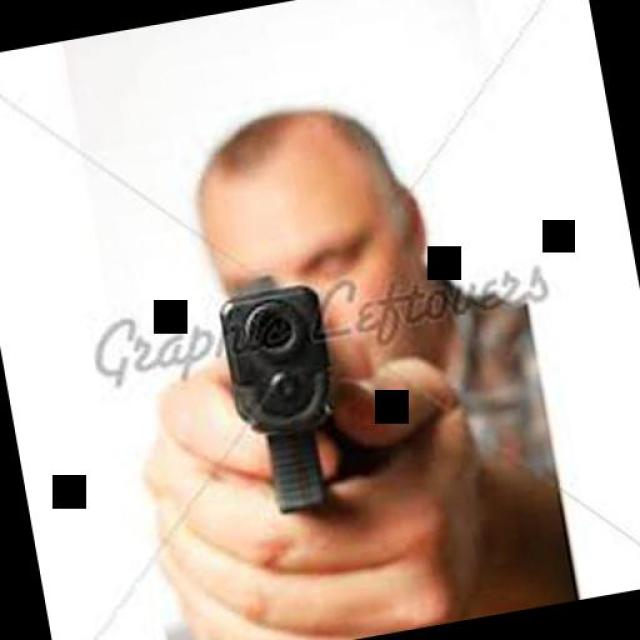gun: (202, 258, 362, 526)
